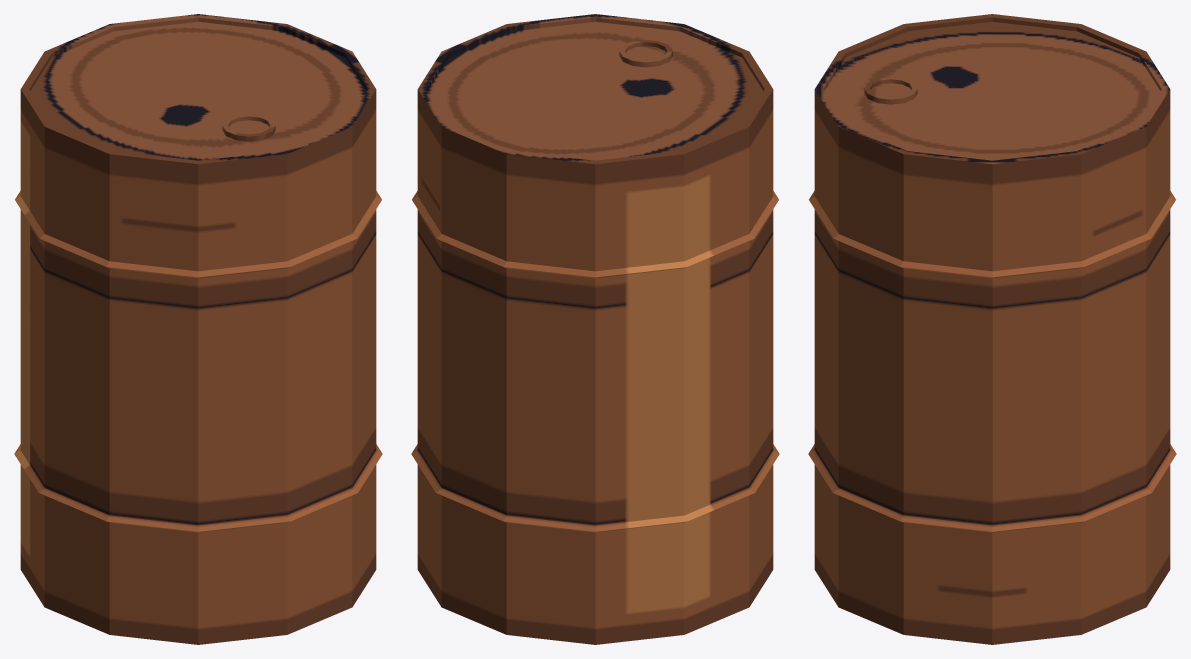
The model's file is prop_barrels_rust.glb.
The picture shows the model from 3 angles, left to right: view 1: azimuth 30°, elevation 25°; view 2: azimuth 150°, elevation 25°; view 3: azimuth 270°, elevation 25°; orthographic projection.
Visible parts, largest first — view 1: prop_barrels_rust_mesh; view 2: prop_barrels_rust_mesh; view 3: prop_barrels_rust_mesh.
Part boxes in pixels (bbox=[...]): prop_barrels_rust_mesh: bbox=[14, 14, 382, 644]; prop_barrels_rust_mesh: bbox=[411, 14, 779, 644]; prop_barrels_rust_mesh: bbox=[808, 14, 1176, 644].
Bounding box in the file's own units: 0.6243 × 0.9 × 0.6243.
Materials: 1 (1 with a texture image).
